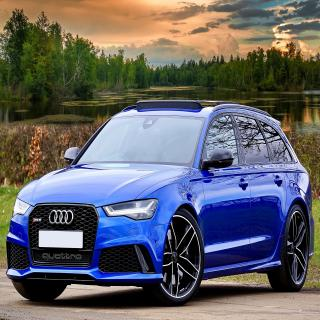Normal_vehicle: (6, 98, 316, 307)
